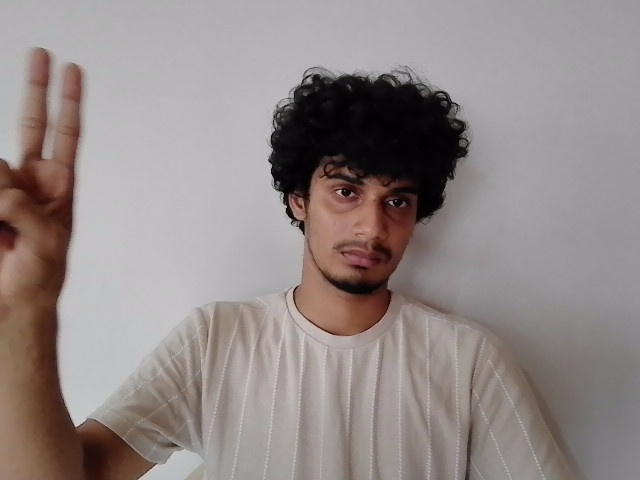travel: (1, 46, 96, 324)
